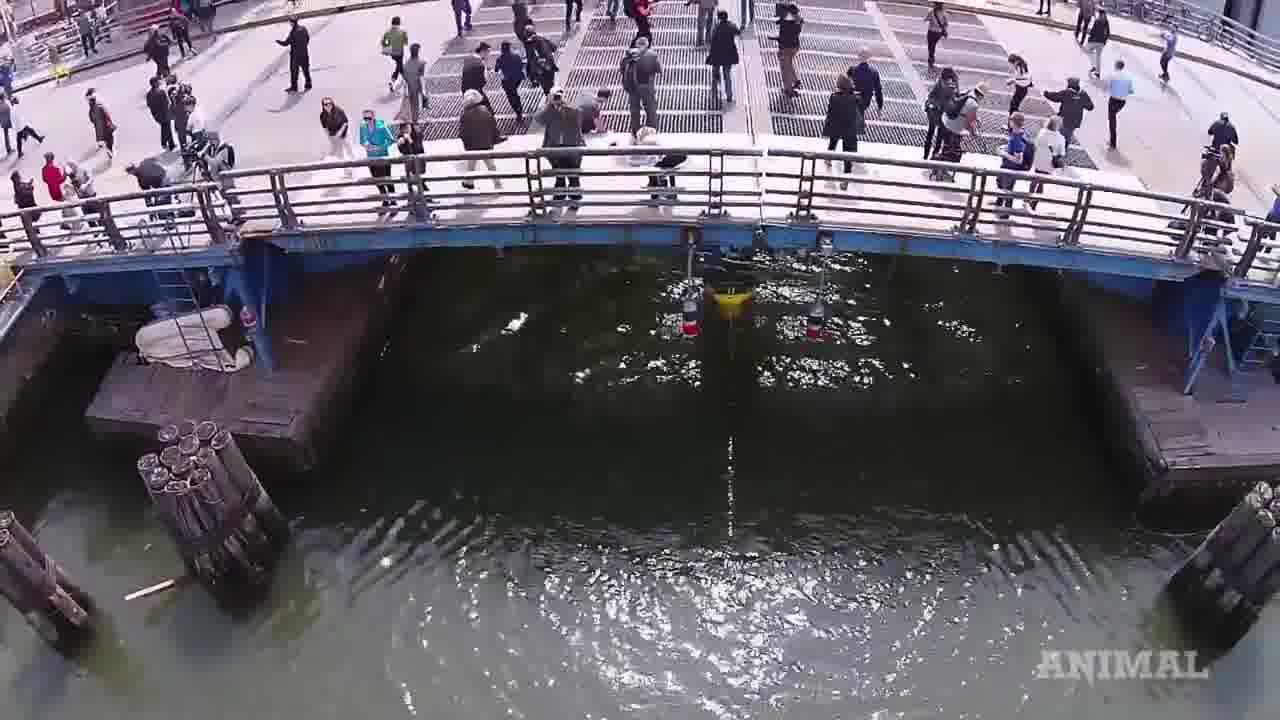human: (705, 274, 759, 319)
